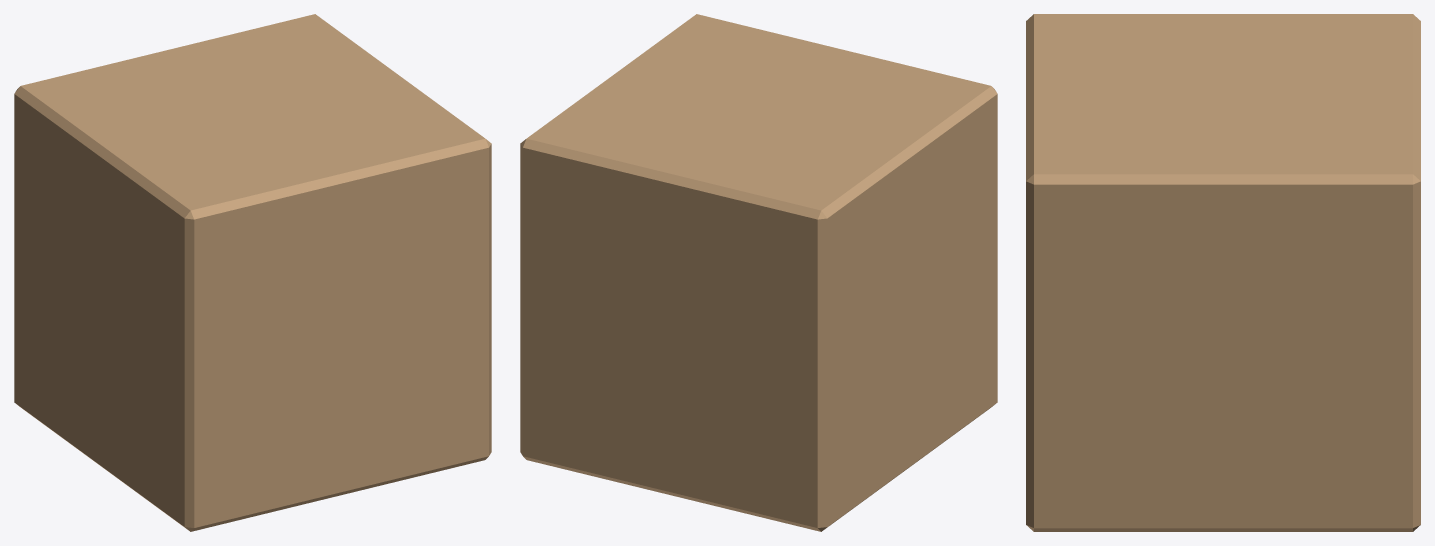
File: ai_crate.glb
3 views of the same model, side by side, from view 1: azimuth 30°, elevation 25°; view 2: azimuth 150°, elevation 25°; view 3: azimuth 270°, elevation 25° (orthographic). The views are drawn at different scales.
Parts seen in each view (by area): view 1: CT40_Crate; view 2: CT40_Crate; view 3: CT40_Crate.
Boxes of the visible parts, bbox=[...] form: CT40_Crate: bbox=[14, 14, 491, 531]; CT40_Crate: bbox=[520, 14, 997, 531]; CT40_Crate: bbox=[1026, 14, 1420, 531].
Size of the model in its own units: 1 by 1 by 1.
